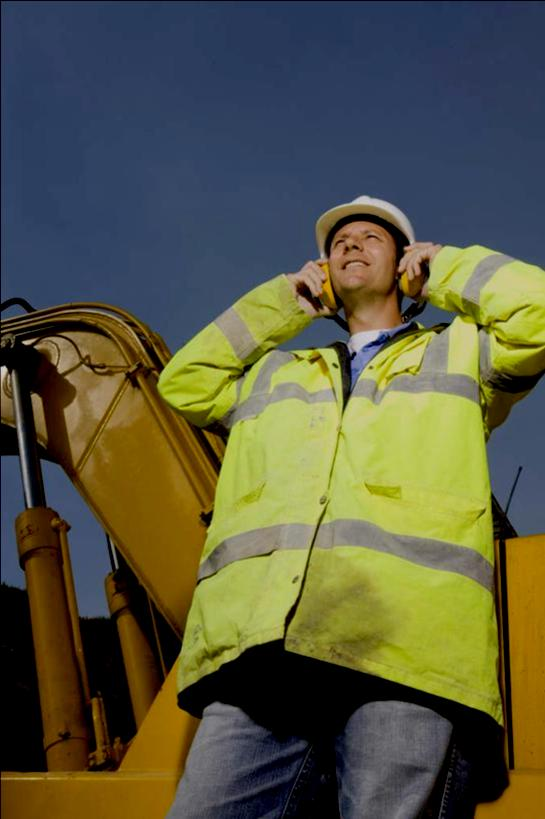helmet: (313, 195, 426, 250)
person: (184, 194, 521, 819)
